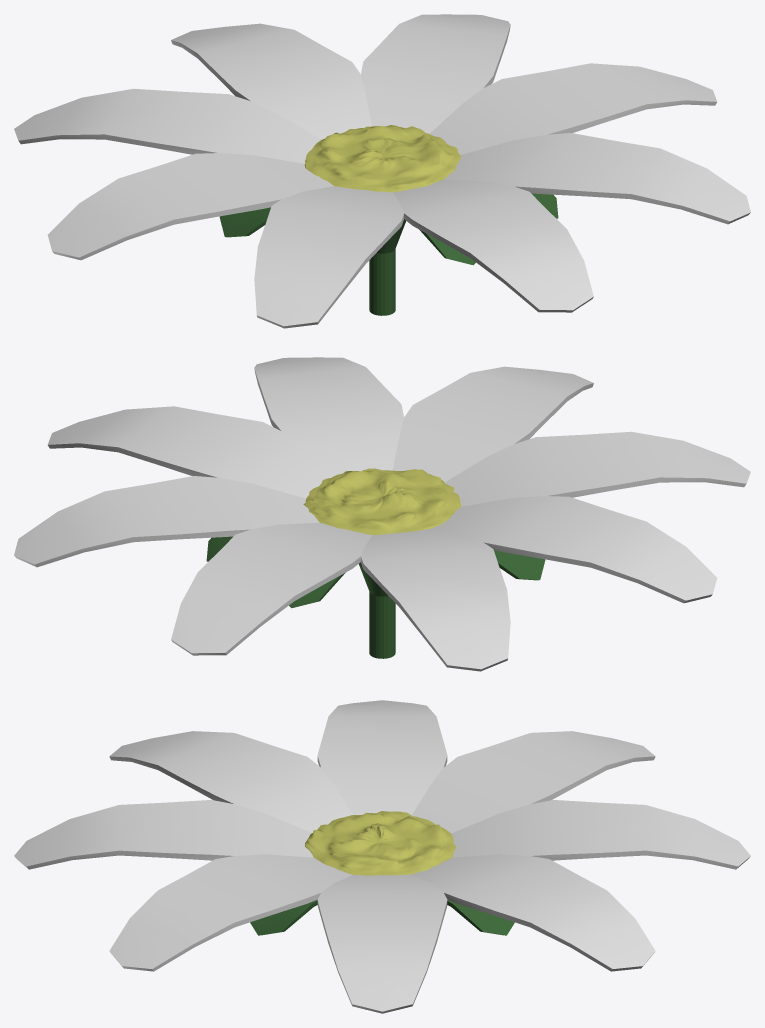
Rendered from flower.fbx.
3 renders of one model, top to bottom at view 1: azimuth 30°, elevation 25°; view 2: azimuth 150°, elevation 25°; view 3: azimuth 270°, elevation 25°, orthographic. The views are drawn at different scales.
Visible parts, largest first — view 1: pCube1 (×2), pCube14, pCube13, pCube15, pCube9, pCube12, pCube10, pCube11, pSphere1, pCone1; view 2: pCube1 (×2), pCube10, pCube11, pCube9, pCube15, pCube12, pCube14, pCube13, pSphere1, pCone1; view 3: pCube13, pCube11, pCube12, pCube10, pCube14, pCube9, pCube15, pCube1, pSphere1, pCube4, pCube6.
Boxes of the visible parts, x1=… form: pCube1 (×2): x1=47, y1=153, x2=333, y2=260; pCube14: x1=393, y1=179, x2=593, y2=312; pCube13: x1=444, y1=133, x2=750, y2=224; pCube15: x1=254, y1=186, x2=403, y2=328; pCube9: x1=14, y1=88, x2=320, y2=163; pCube12: x1=430, y1=63, x2=717, y2=154; pCube10: x1=171, y1=23, x2=371, y2=139; pCube11: x1=361, y1=14, x2=510, y2=133; pSphere1: x1=304, y1=125, x2=460, y2=192; pCone1: x1=369, y1=219, x2=405, y2=315; pCube1 (×2): x1=431, y1=496, x2=717, y2=603; pCube10: x1=171, y1=522, x2=371, y2=655; pCube11: x1=14, y1=476, x2=319, y2=567; pCube9: x1=361, y1=529, x2=510, y2=671; pCube15: x1=445, y1=431, x2=750, y2=506; pCube12: x1=47, y1=406, x2=333, y2=498; pCube14: x1=392, y1=366, x2=593, y2=482; pCube13: x1=254, y1=357, x2=403, y2=475; pSphere1: x1=303, y1=468, x2=461, y2=535; pCone1: x1=359, y1=562, x2=395, y2=658; pCube13: x1=109, y1=854, x2=352, y2=971; pCube11: x1=411, y1=854, x2=655, y2=971; pCube12: x1=317, y1=874, x2=447, y2=1013; pCube10: x1=451, y1=800, x2=750, y2=869; pCube14: x1=14, y1=800, x2=313, y2=869; pCube9: x1=412, y1=731, x2=655, y2=833; pCube15: x1=109, y1=731, x2=352, y2=832; pCube1: x1=317, y1=700, x2=447, y2=815; pSphere1: x1=305, y1=811, x2=456, y2=875; pCube4: x1=447, y1=899, x2=514, y2=935; pCube6: x1=250, y1=899, x2=317, y2=935.
Bounding box in the file's own units: 20.04 × 4.91 × 20.04.
